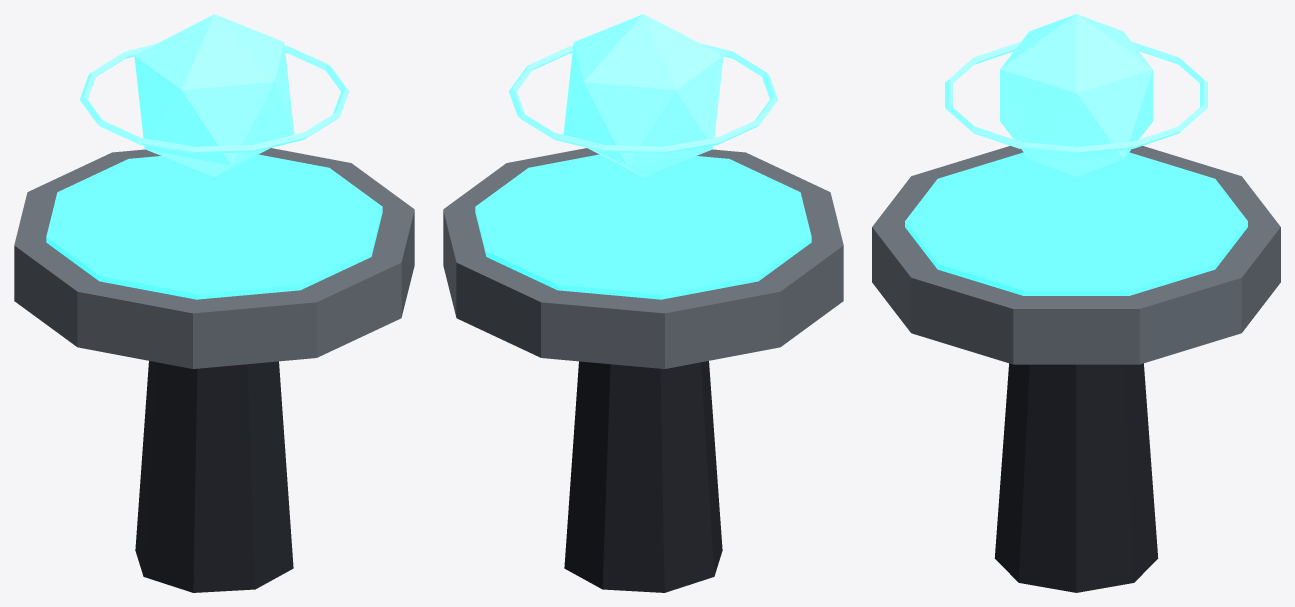
Rendered from hologram_table.glb.
3 renders of one model, left to right at view 1: azimuth 30°, elevation 25°; view 2: azimuth 150°, elevation 25°; view 3: azimuth 270°, elevation 25°, orthographic.
Visible parts, largest first — view 1: hologram_table; view 2: hologram_table; view 3: hologram_table.
Part boxes in pixels (x1=…): hologram_table: x1=14, y1=14, x2=414, y2=592; hologram_table: x1=443, y1=14, x2=843, y2=592; hologram_table: x1=872, y1=14, x2=1280, y2=592.
Bounding box in the file's own units: 0.9511 × 1.47 × 1.
